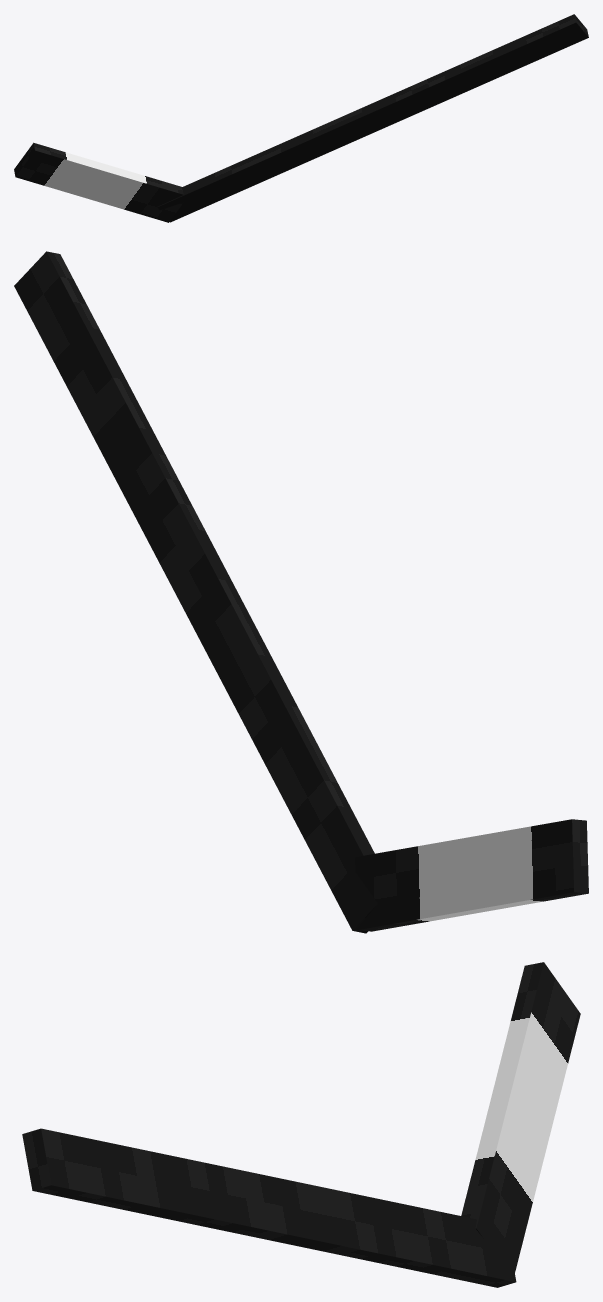
Rendered from hockey-stick-right.gltf.
3 renders of one model, top to bottom at view 1: azimuth 30°, elevation 25°; view 2: azimuth 150°, elevation 25°; view 3: azimuth 270°, elevation 25°, orthographic. The views are drawn at different scales.
Parts seen in each view (by area): view 1: geo_shaft_geom_0, geo_blade_geom_0; view 2: geo_shaft_geom_0, geo_blade_geom_0; view 3: geo_shaft_geom_0, geo_blade_geom_0.
Part boxes in pixels (x1=…): geo_shaft_geom_0: x1=157, y1=14, x2=588, y2=222; geo_blade_geom_0: x1=14, y1=142, x2=183, y2=222; geo_shaft_geom_0: x1=14, y1=251, x2=377, y2=933; geo_blade_geom_0: x1=355, y1=819, x2=588, y2=931; geo_shaft_geom_0: x1=22, y1=1128, x2=516, y2=1287; geo_blade_geom_0: x1=461, y1=962, x2=580, y2=1272.
Size of the model in its own units: 1.27 by 0.606 by 0.693.
2 materials, 2 textured.
